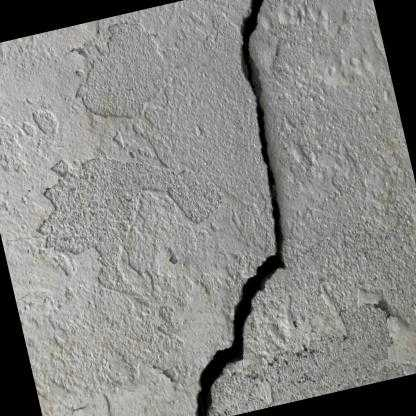crack: (197, 0, 285, 416)
